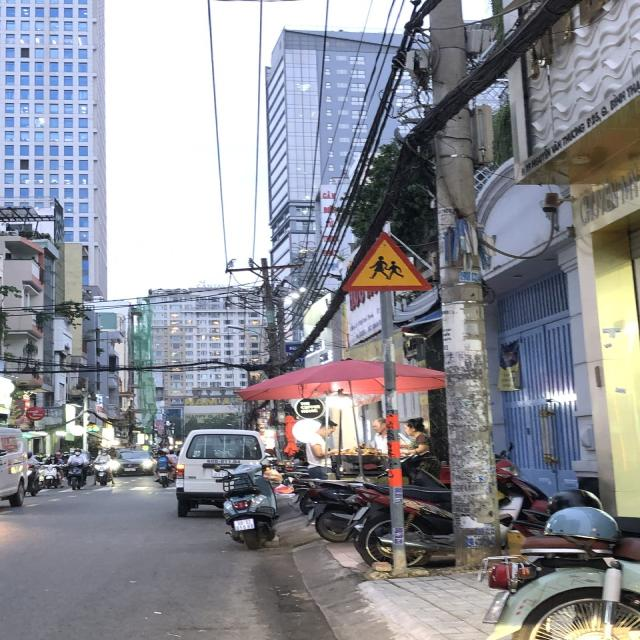Bien bao tre em: (327, 222, 438, 294)
